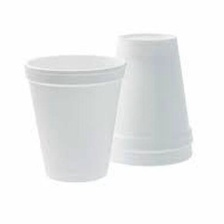paper_cup: (19, 48, 131, 186), (96, 27, 198, 170)
